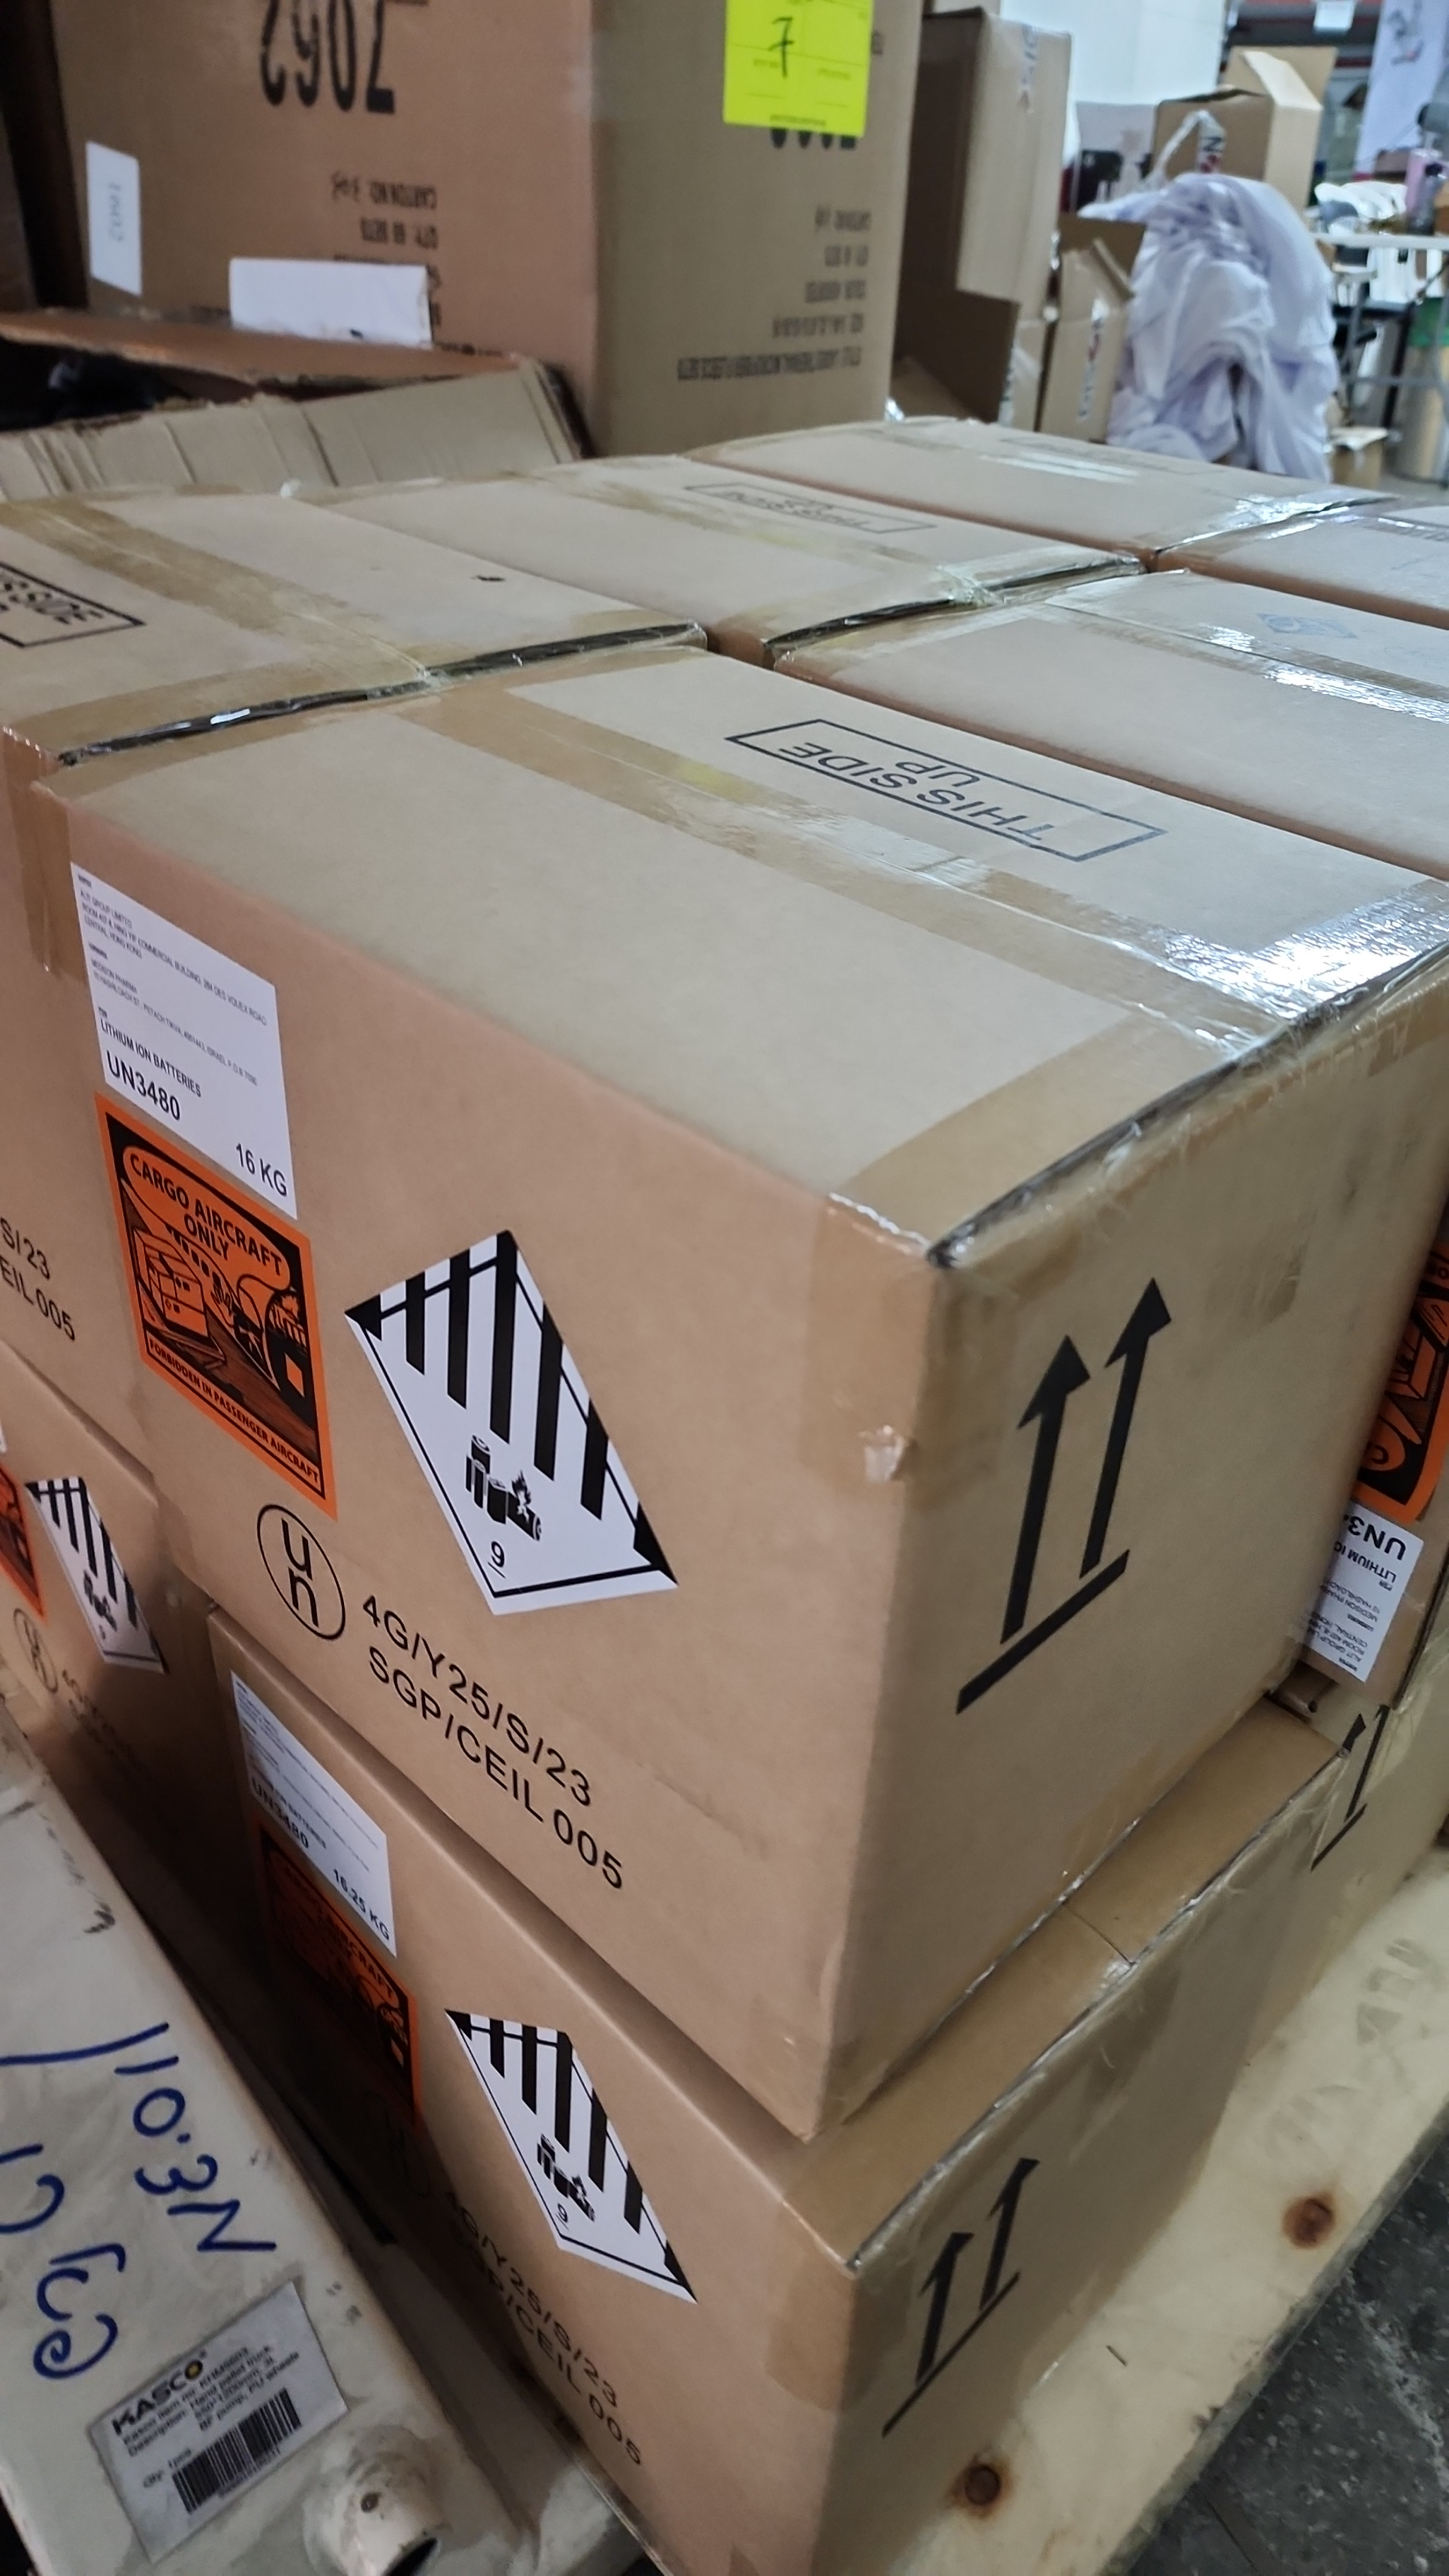box: (83, 663, 1421, 1974), (414, 1771, 1339, 2502), (350, 414, 1019, 701)
